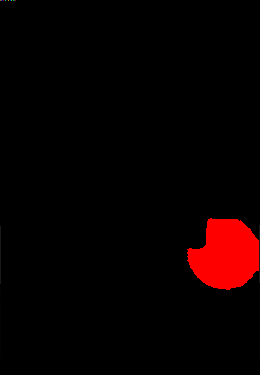stamp: (187, 218, 260, 289)
